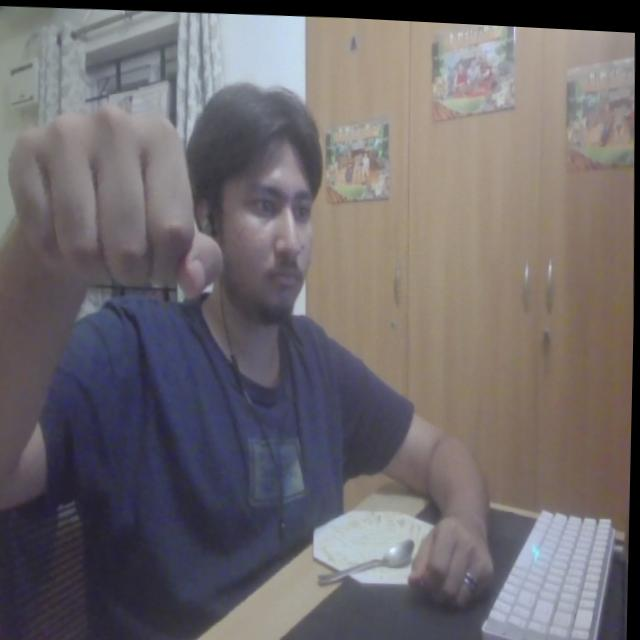yes: (2, 88, 232, 307)
